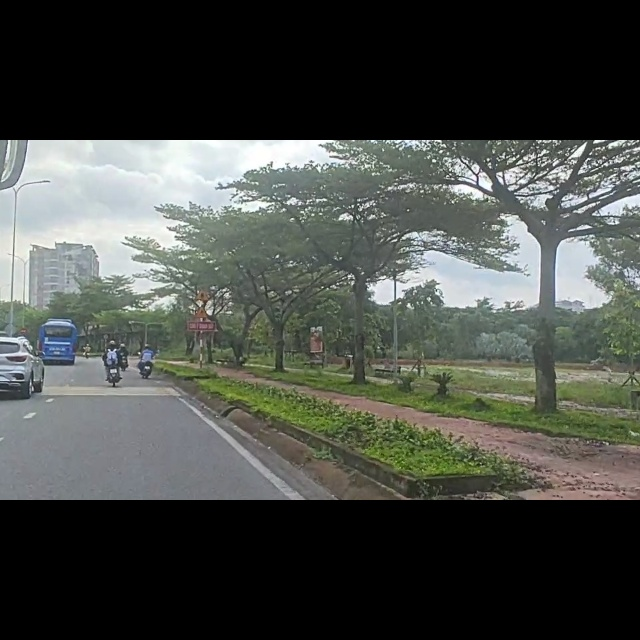bien_nguy_hiem: (193, 261, 213, 288), (193, 294, 211, 319)
